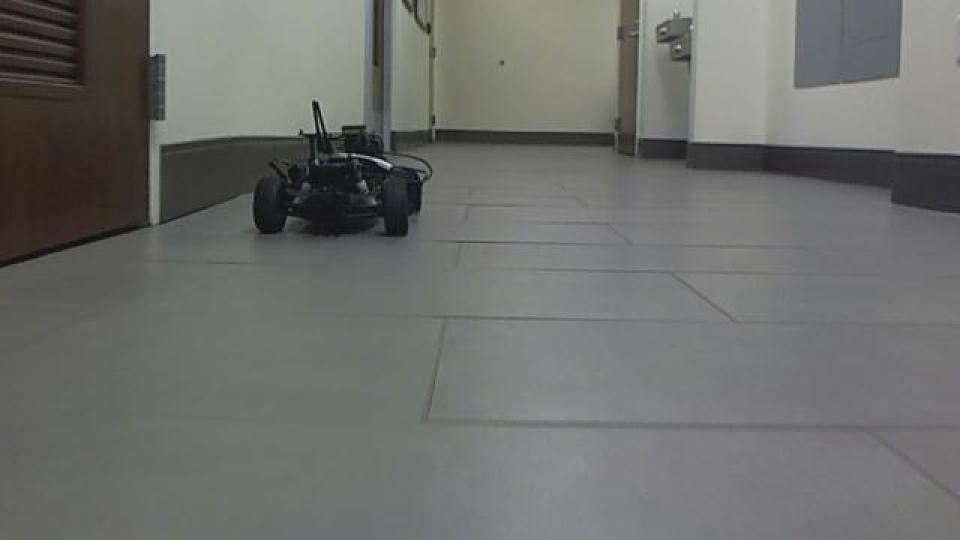car: (249, 98, 433, 240)
